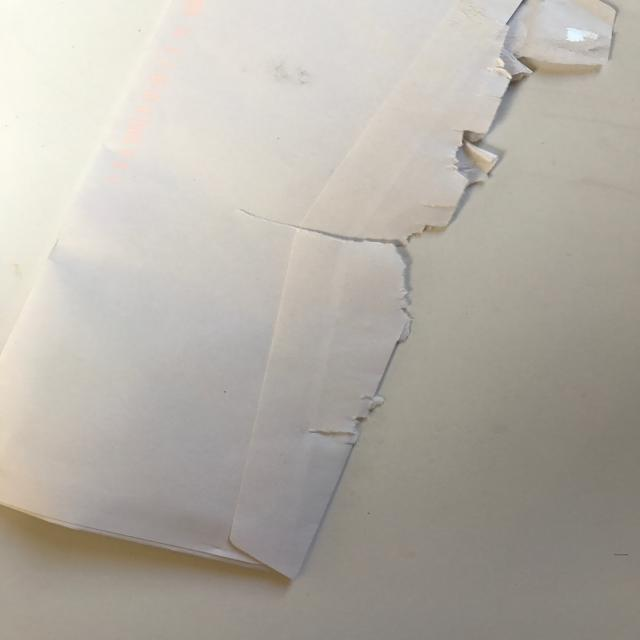paper: (0, 0, 622, 582)
